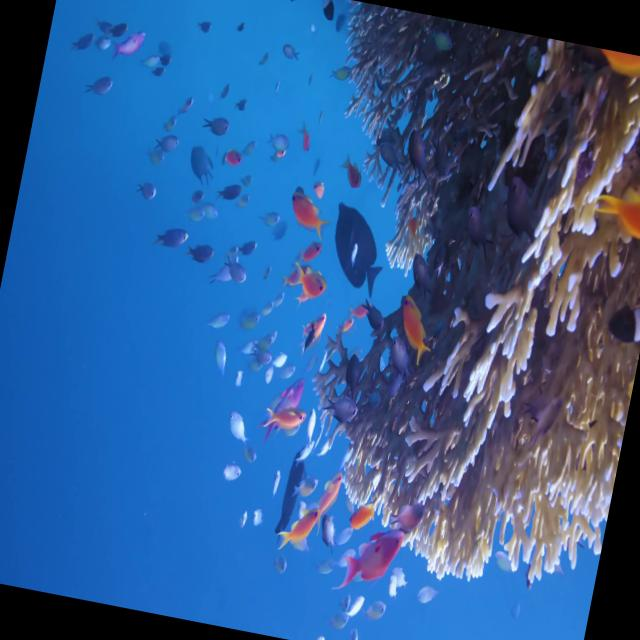fish: (321, 194, 392, 306), (340, 523, 406, 600), (387, 282, 437, 362), (592, 166, 640, 245), (284, 174, 334, 247), (278, 502, 322, 552), (186, 136, 222, 195), (284, 265, 331, 310)
